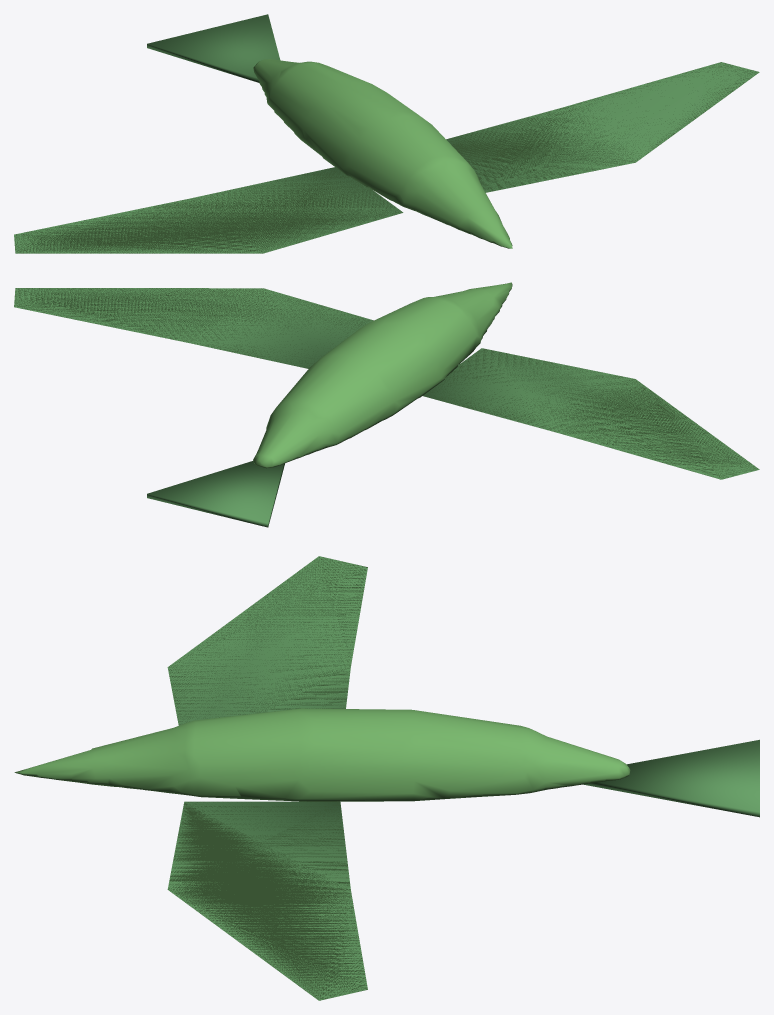
Rendered from papagei.glb.
3 renders of one model, top to bottom at view 1: azimuth 30°, elevation 25°; view 2: azimuth 150°, elevation 25°; view 3: azimuth 270°, elevation 25°, orthographic. The views are drawn at different scales.
Visible parts, largest first — view 1: lack; view 2: lack; view 3: lack.
Boxes of the visible parts, bbox=[...] form: lack: bbox=[14, 14, 759, 253]; lack: bbox=[14, 282, 759, 527]; lack: bbox=[14, 556, 759, 1000].
Bounding box in the file's own units: 0.55 × 0.0379 × 0.3898.
